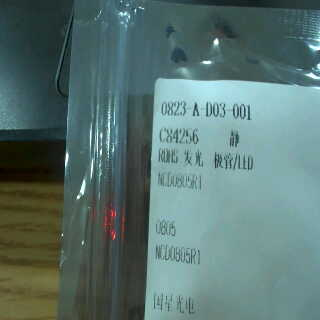LED: (180, 151, 256, 167)
